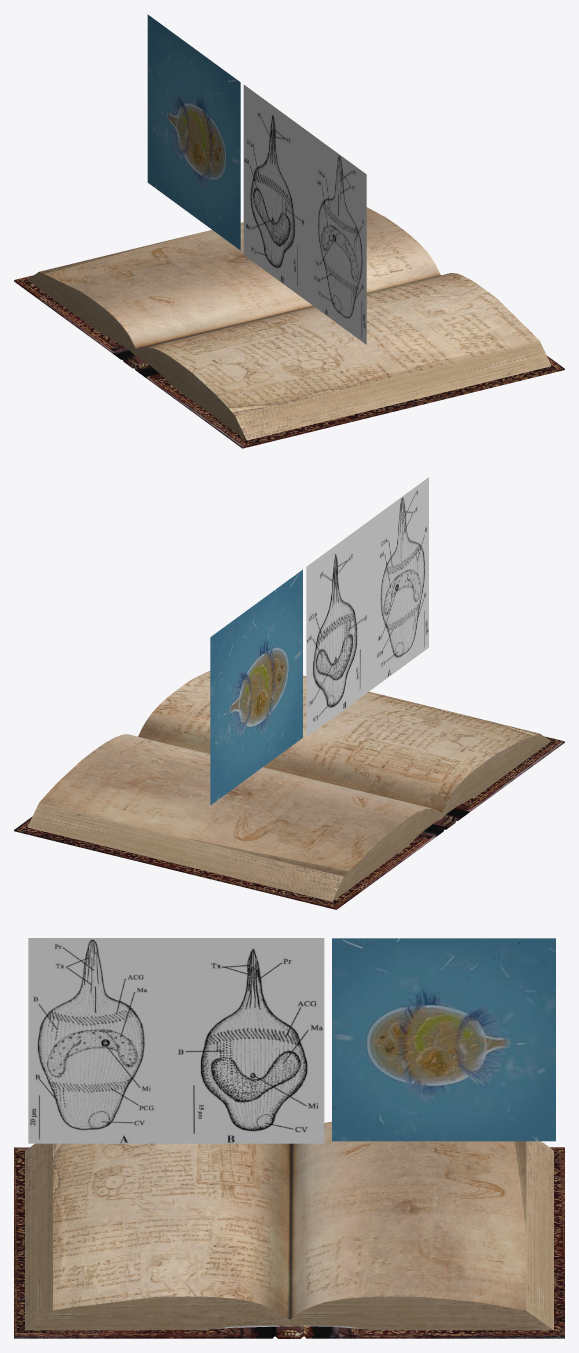
The model's file is didinium.glb.
The picture shows the model from 3 angles, top to bottom: view 1: azimuth 30°, elevation 25°; view 2: azimuth 150°, elevation 25°; view 3: azimuth 270°, elevation 25°; orthographic projection. The views are drawn at different scales.
Parts seen in each view (by area): view 1: polySurface23, didinium_structure, didinium_picpicture, polySurface21; view 2: polySurface23, didinium_structure, didinium_picpicture, polySurface21; view 3: polySurface23, didinium_structure, didinium_picpicture, polySurface21.
Boxes of the visible parts, box(x1,y1,x2,y2) form: polySurface23: box(28, 207, 551, 440); didinium_structure: box(243, 84, 366, 344); didinium_picpicture: box(147, 14, 240, 250); polySurface21: box(14, 275, 564, 448); polySurface23: box(27, 671, 551, 901); didinium_structure: box(306, 477, 428, 736); didinium_picpicture: box(210, 569, 302, 805); polySurface21: box(14, 736, 564, 909); polySurface23: box(25, 1121, 553, 1330); didinium_structure: box(28, 938, 324, 1143); didinium_picpicture: box(332, 938, 555, 1141); polySurface21: box(14, 1147, 564, 1338).
Bounding box in the file's own units: 3.08 × 2.18 × 3.78.
Materials: 7 (5 with a texture image).
